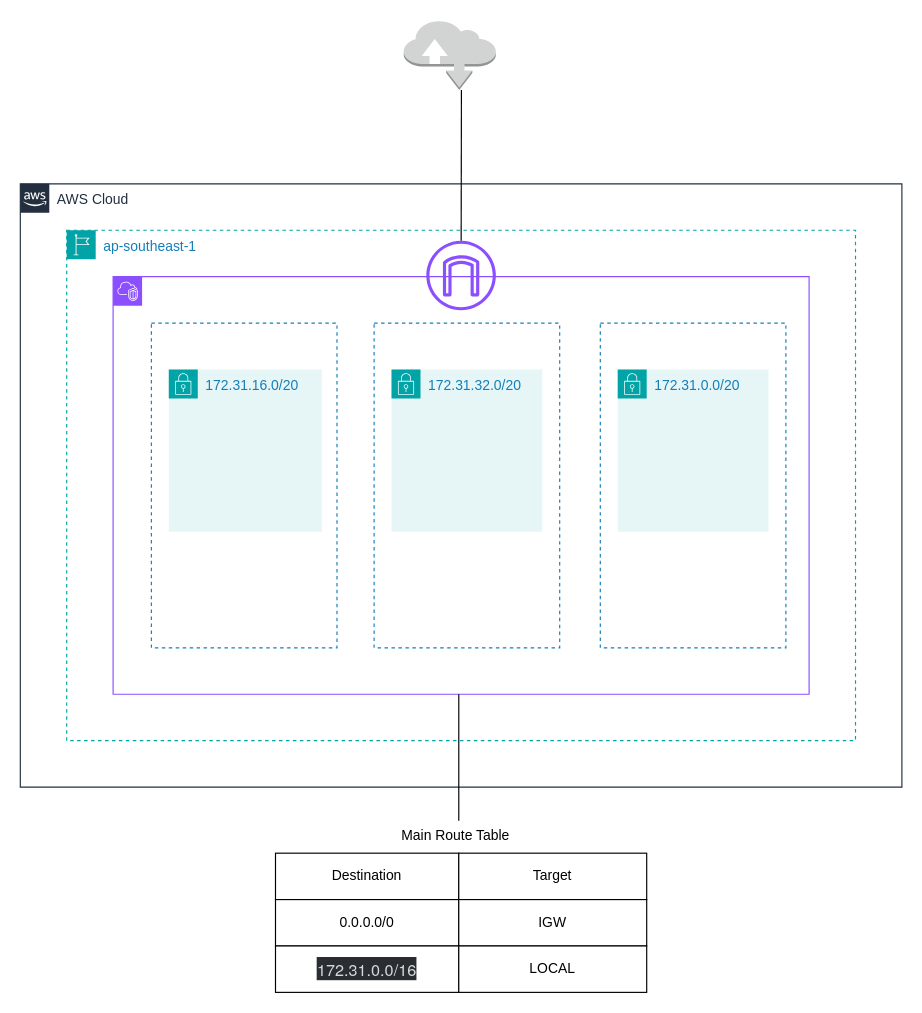
Image size: 922x1013. Some labels were removed from this diagram. Each missing label, with the box of its shape:
ap-southeast-1a: (150, 322, 337, 648)
ap-southeast-1b: (373, 322, 560, 648)
ap-southeast-1c: (599, 322, 786, 648)
vpc-01c6c56dcb21c82c6: (112, 276, 809, 694)
